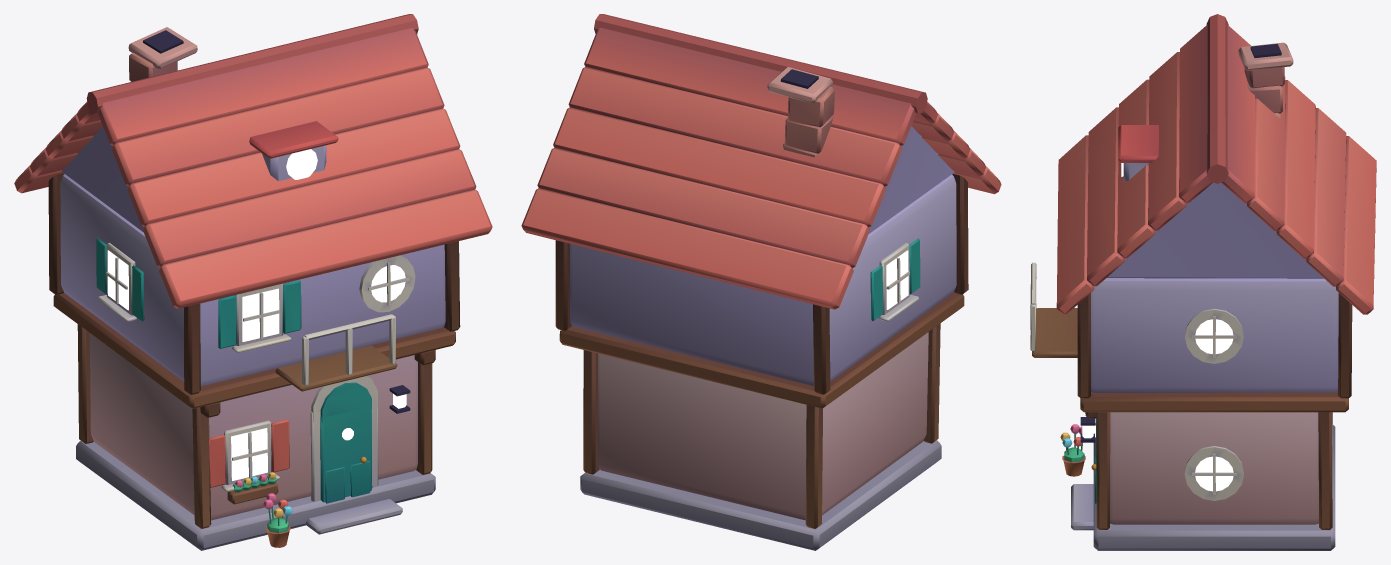
File: common_town_cottage_b.glb
3 renders of one model, left to right at view 1: azimuth 30°, elevation 25°; view 2: azimuth 150°, elevation 25°; view 3: azimuth 270°, elevation 25°, orthographic. The views are drawn at different scales.
Parts seen in each view (by area): view 1: common_town_cottage_b; view 2: common_town_cottage_b; view 3: common_town_cottage_b.
Boxes of the visible parts, x1,y1,x2,y2 form: common_town_cottage_b: (14, 14, 492, 550); common_town_cottage_b: (521, 14, 1001, 550); common_town_cottage_b: (1030, 14, 1376, 550).
Size of the model in its own units: 6.33 by 8.22 by 6.16.
